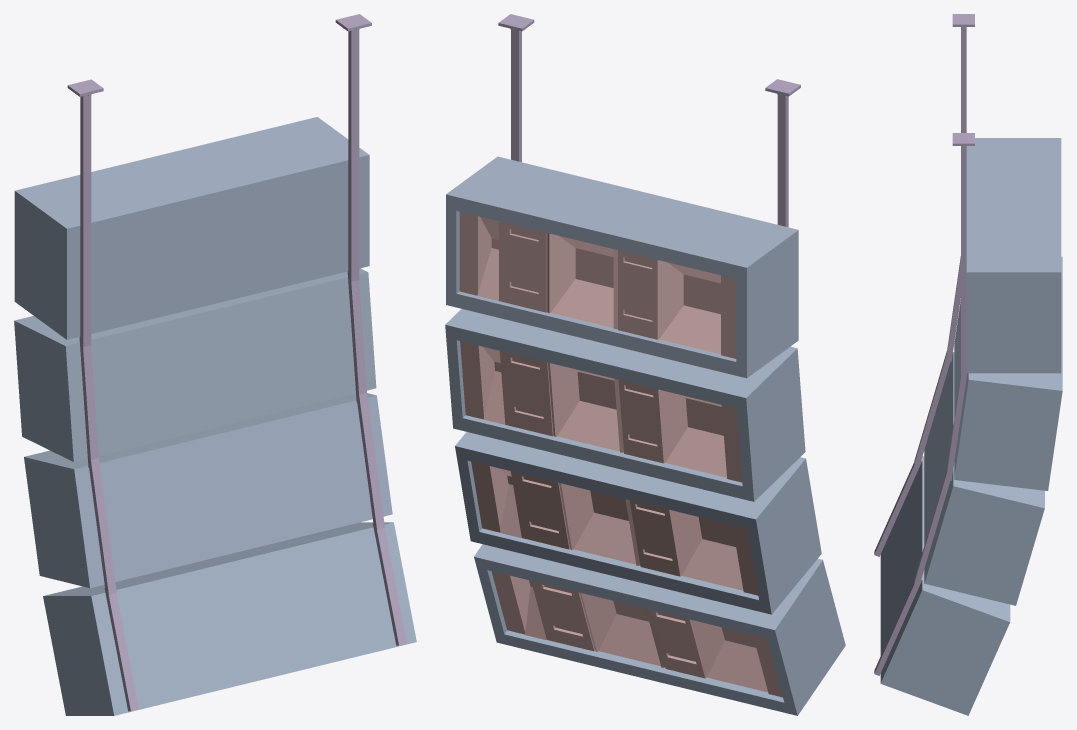
Rendered from SUBWOFFER.gltf.
The picture shows the model from 3 angles, left to right: view 1: azimuth 30°, elevation 25°; view 2: azimuth 150°, elevation 25°; view 3: azimuth 270°, elevation 25°; orthographic projection. The views are drawn at different scales.
Parts seen in each view (by area): view 1: 036502a1-e009-f2c2-9f95-51810f1d5194, 85e40c53-31c0-650a-9a69-74c13fb14c3b, 66931e31-dfcd-4b9f-4885-1db8539fbbff, 498c9c77-1649-b934-ea57-9cb4aa71afc3, 7a986f8f-3a1b-16a7-c363-88a812fa387a, 3b5b30df-d070-c484-b0ae-f907cdba6c2b, 61ff7c32-2bbd-baa5-4ec1-28572dab6fb6, ab0583d1-92a8-f87f-27c2-51d4c9de54a5, ca511640-a26d-c1a8-736c-b9dfde305305, 4d23572b-c935-0106-2c71-eaf961d64769, 797e5ff5-8486-fb40-a0eb-1948344e83d1, 73ba7b18-ae47-90d2-4e8e-a53c31cf5286 (+18 smaller); view 2: 7a986f8f-3a1b-16a7-c363-88a812fa387a, 73ba7b18-ae47-90d2-4e8e-a53c31cf5286, 797e5ff5-8486-fb40-a0eb-1948344e83d1, 61ff7c32-2bbd-baa5-4ec1-28572dab6fb6, 3b5b30df-d070-c484-b0ae-f907cdba6c2b, ab0583d1-92a8-f87f-27c2-51d4c9de54a5, ca511640-a26d-c1a8-736c-b9dfde305305, 4d23572b-c935-0106-2c71-eaf961d64769, 84275fd7-4d5e-4698-a73f-adff74c1272e, 6d80adeb-cc67-97eb-3375-e477d231fc8a, c31b73c3-9abc-2521-69ce-c6acc031fbc4, ae377e1c-c583-8d80-89ea-9a7294796b8c (+54 smaller); view 3: 7a986f8f-3a1b-16a7-c363-88a812fa387a, 9479e6a3-388c-e0e9-d602-998fb7825ee1, 19b5c39f-0fdf-caad-df91-7c5b81a31435, f6516065-0698-14a8-d63a-5b24e96cbb72, 9ef9aec0-8463-7856-c22f-209f8ef534cb, 036502a1-e009-f2c2-9f95-51810f1d5194, 85e40c53-31c0-650a-9a69-74c13fb14c3b, 4d23572b-c935-0106-2c71-eaf961d64769, 797e5ff5-8486-fb40-a0eb-1948344e83d1, 73ba7b18-ae47-90d2-4e8e-a53c31cf5286, 17e17be0-2323-ee7d-0dbb-b1c86ff133fb, 8a81d76a-d5a5-257d-89cb-541d86675864 (+11 smaller).
Boxes of the visible parts, x1,y1,x2,y2 form: 036502a1-e009-f2c2-9f95-51810f1d5194: (104,542,393,698); 85e40c53-31c0-650a-9a69-74c13fb14c3b: (87,415,370,570); 66931e31-dfcd-4b9f-4885-1db8539fbbff: (77,292,354,444); 498c9c77-1649-b934-ea57-9cb4aa71afc3: (77,174,348,323); 7a986f8f-3a1b-16a7-c363-88a812fa387a: (26,119,348,239); 3b5b30df-d070-c484-b0ae-f907cdba6c2b: (14,188,77,339); 61ff7c32-2bbd-baa5-4ec1-28572dab6fb6: (14,318,84,461); ab0583d1-92a8-f87f-27c2-51d4c9de54a5: (24,454,100,588); ca511640-a26d-c1a8-736c-b9dfde305305: (43,593,124,715); 4d23572b-c935-0106-2c71-eaf961d64769: (54,525,376,608); 797e5ff5-8486-fb40-a0eb-1948344e83d1: (35,394,358,481); 73ba7b18-ae47-90d2-4e8e-a53c31cf5286: (25,271,348,357); 7a986f8f-3a1b-16a7-c363-88a812fa387a: (456,159,787,278); 73ba7b18-ae47-90d2-4e8e-a53c31cf5286: (455,311,772,408); 797e5ff5-8486-fb40-a0eb-1948344e83d1: (465,434,770,528); 61ff7c32-2bbd-baa5-4ec1-28572dab6fb6: (735,346,805,501); 3b5b30df-d070-c484-b0ae-f907cdba6c2b: (736,227,798,378); ab0583d1-92a8-f87f-27c2-51d4c9de54a5: (745,457,821,614); ca511640-a26d-c1a8-736c-b9dfde305305: (764,558,845,715); 4d23572b-c935-0106-2c71-eaf961d64769: (484,547,778,638); 84275fd7-4d5e-4698-a73f-adff74c1272e: (456,291,736,375); 6d80adeb-cc67-97eb-3375-e477d231fc8a: (462,415,743,499); c31b73c3-9abc-2521-69ce-c6acc031fbc4: (479,528,760,611); ae377e1c-c583-8d80-89ea-9a7294796b8c: (504,630,786,713); 7a986f8f-3a1b-16a7-c363-88a812fa387a: (966,142,1061,267); 9479e6a3-388c-e0e9-d602-998fb7825ee1: (880,585,1010,715); 19b5c39f-0fdf-caad-df91-7c5b81a31435: (924,481,1044,605); f6516065-0698-14a8-d63a-5b24e96cbb72: (966,267,1061,373); 9ef9aec0-8463-7856-c22f-209f8ef534cb: (954,375,1062,490); 036502a1-e009-f2c2-9f95-51810f1d5194: (885,473,916,666); 85e40c53-31c0-650a-9a69-74c13fb14c3b: (928,370,949,566); 4d23572b-c935-0106-2c71-eaf961d64769: (917,460,1010,617); 797e5ff5-8486-fb40-a0eb-1948344e83d1: (949,356,1044,503); 73ba7b18-ae47-90d2-4e8e-a53c31cf5286: (967,261,1062,386); 17e17be0-2323-ee7d-0dbb-b1c86ff133fb: (914,350,952,465); 8a81d76a-d5a5-257d-89cb-541d86675864: (874,577,922,675).
Size of the model in its own units: 3.56 by 7.05 by 2.11.
4 materials, 4 textured.
